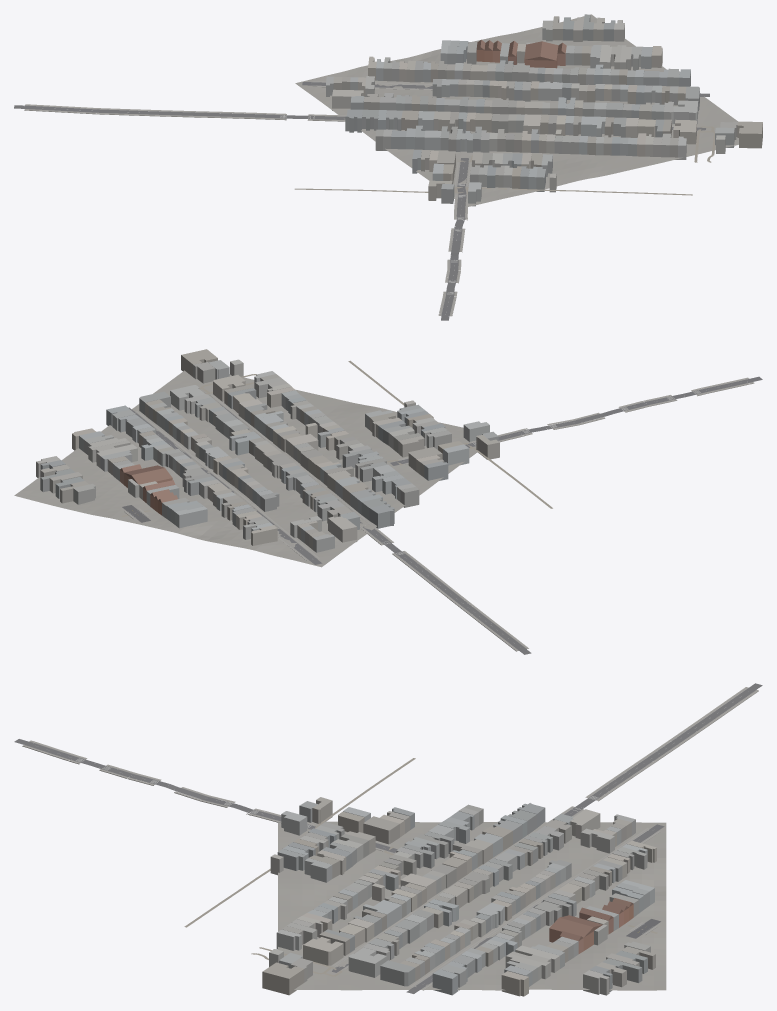
Rendered from tile_-7_-7.glb.
3 renders of one model, top to bottom at view 1: azimuth 30°, elevation 25°; view 2: azimuth 150°, elevation 25°; view 3: azimuth 270°, elevation 25°, orthographic. The views are drawn at different scales.
Visible parts, largest first — view 1: buildings, terrain, roads, sidewalks, paths; view 2: buildings, terrain, roads, sidewalks, paths; view 3: buildings, terrain, roads, sidewalks, paths.
Boxes of the visible parts, <box> form: buildings: <box>326,14,762,206</box>; terrain: <box>295,14,738,206</box>; roads: <box>14,82,709,320</box>; sidewalks: <box>24,42,673,316</box>; paths: <box>294,40,715,195</box>; buildings: <box>36,349,499,552</box>; terrain: <box>14,370,477,567</box>; roads: <box>122,376,762,654</box>; sidewalks: <box>124,377,754,651</box>; paths: <box>122,360,552,516</box>; buildings: <box>262,797,656,996</box>; terrain: <box>278,821,666,990</box>; roads: <box>14,683,762,993</box>; sidewalks: <box>22,687,758,990</box>; paths: <box>184,758,657,976</box>.
Size of the model in its own units: 471 by 16.25 by 494.
